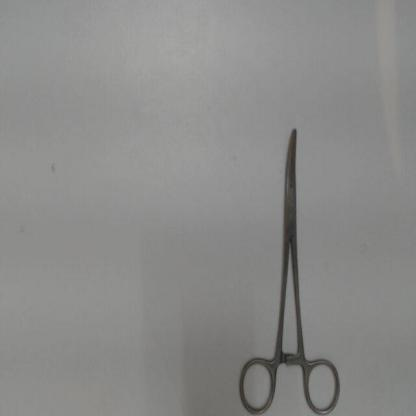Crile Artery Forceps: (232, 117, 340, 415)
